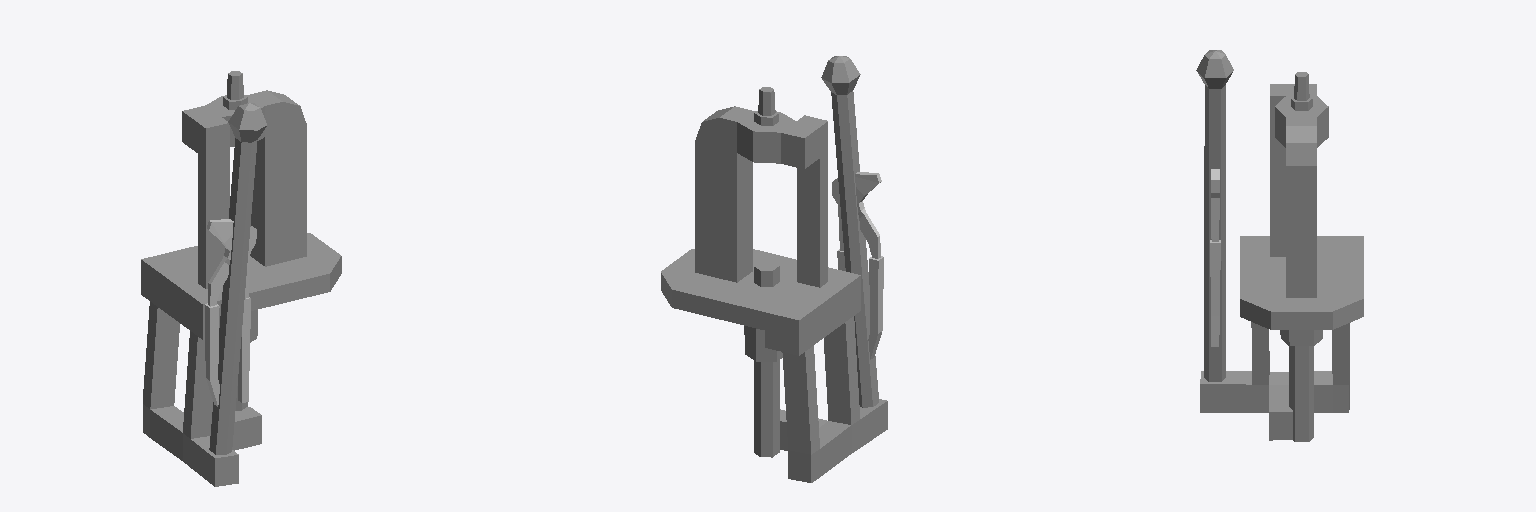
File: Pliers.obj
3 views of the same model, side by side, from view 1: azimuth 30°, elevation 25°; view 2: azimuth 150°, elevation 25°; view 3: azimuth 270°, elevation 25° (orthographic).
Visible parts, largest first — view 1: .000_.005, Cube; view 2: .000_.005, Cube; view 3: .000_.005, Cube.
Boxes of the visible parts, box(x1,y1,x2,y2) form: .000_.005: box(141, 71, 341, 486); Cube: box(205, 219, 256, 406); .000_.005: box(661, 56, 887, 482); Cube: box(832, 172, 883, 359); .000_.005: box(1196, 50, 1363, 441); Cube: box(1210, 169, 1220, 346).
Size of the model in its own units: 0.1411 by 0.3099 by 0.1263.